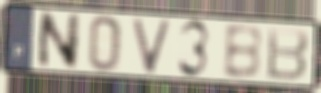0: (86, 14, 124, 74)
3: (175, 18, 219, 79)
B: (264, 25, 311, 83), (221, 23, 265, 82)
N: (36, 10, 83, 71)
V: (130, 16, 174, 76)
